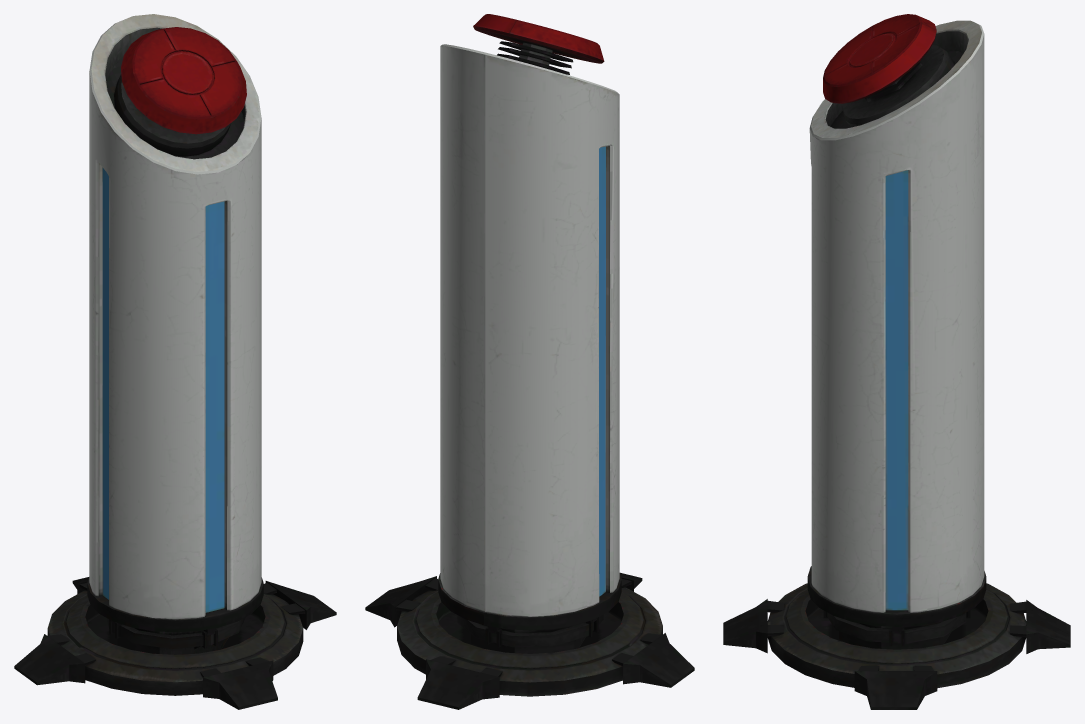
Rendered from portal_button.glb.
3 renders of one model, left to right at view 1: azimuth 30°, elevation 25°; view 2: azimuth 150°, elevation 25°; view 3: azimuth 270°, elevation 25°, orthographic. The views are drawn at different scales.
Visible parts, largest first — view 1: Object_2; view 2: Object_2; view 3: Object_2.
Part boxes in pixels (x1,y1,x2,y2): Object_2: [14, 14, 336, 709]; Object_2: [365, 14, 694, 709]; Object_2: [723, 14, 1070, 709].
Size of the model in its own units: 24 by 46.72 by 24.
1 material, 1 textured.
